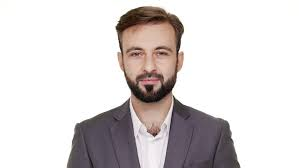white_male: (101, 18, 189, 102)
